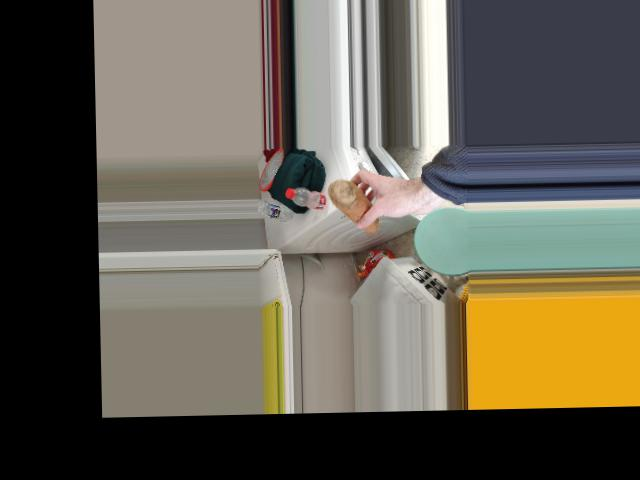sweet_potato: (329, 174, 379, 238)
